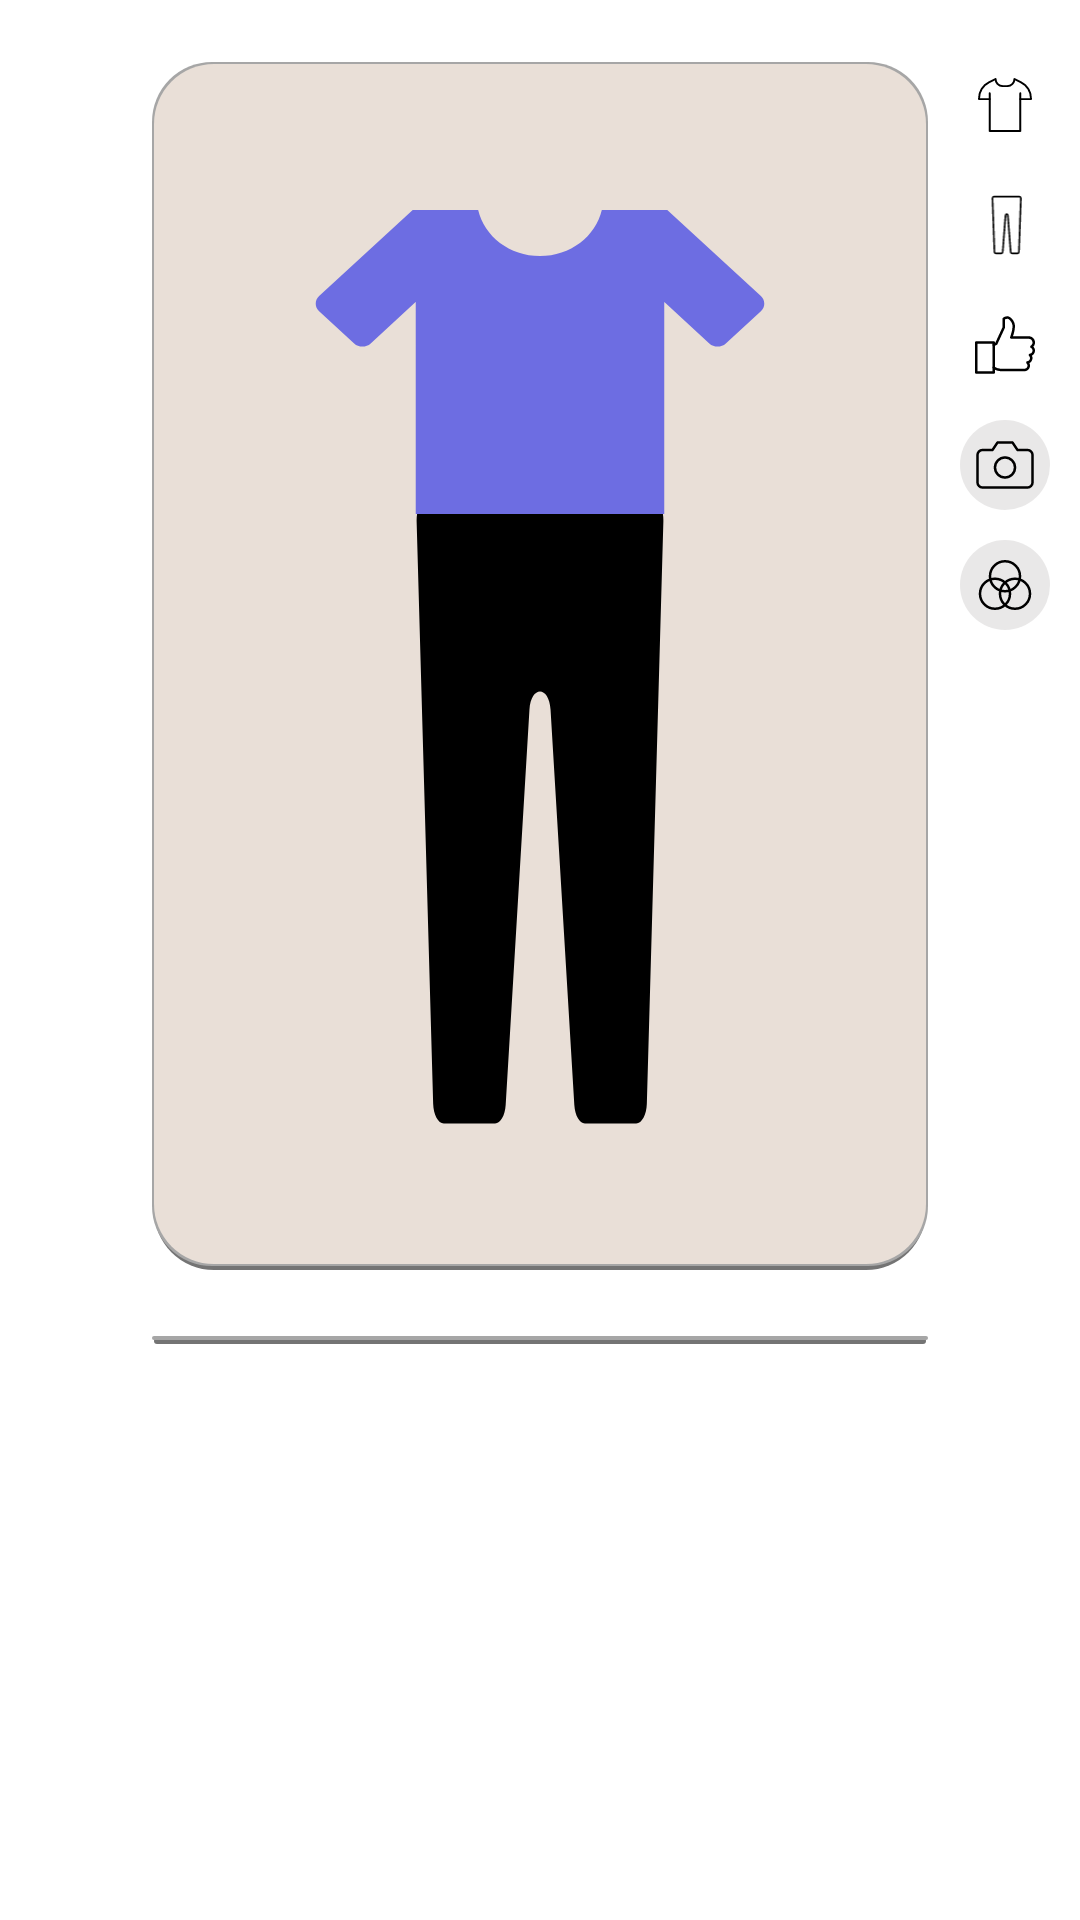

Screen size 1080 × 1920. Icon name, then its box in pixels as (x1, y1, x2, y2):
camera: (960, 420, 1050, 510)
picker: (960, 540, 1050, 630)
thumbs up: (975, 316, 1035, 374)
